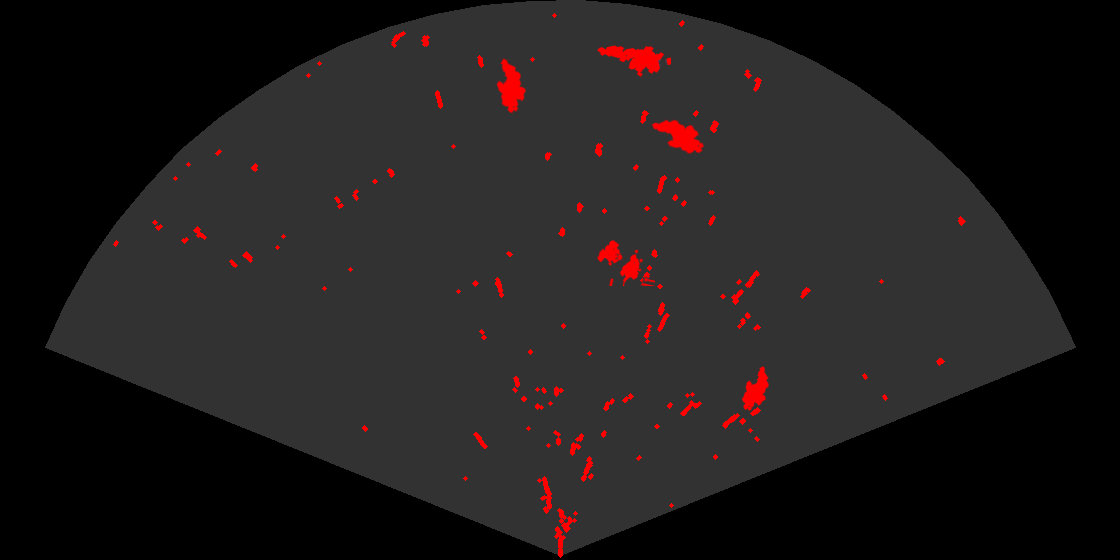AUV: (650, 118, 706, 155), (495, 57, 528, 115), (740, 365, 770, 412)
cage: (595, 238, 655, 286)
frogman: (596, 44, 671, 78)
